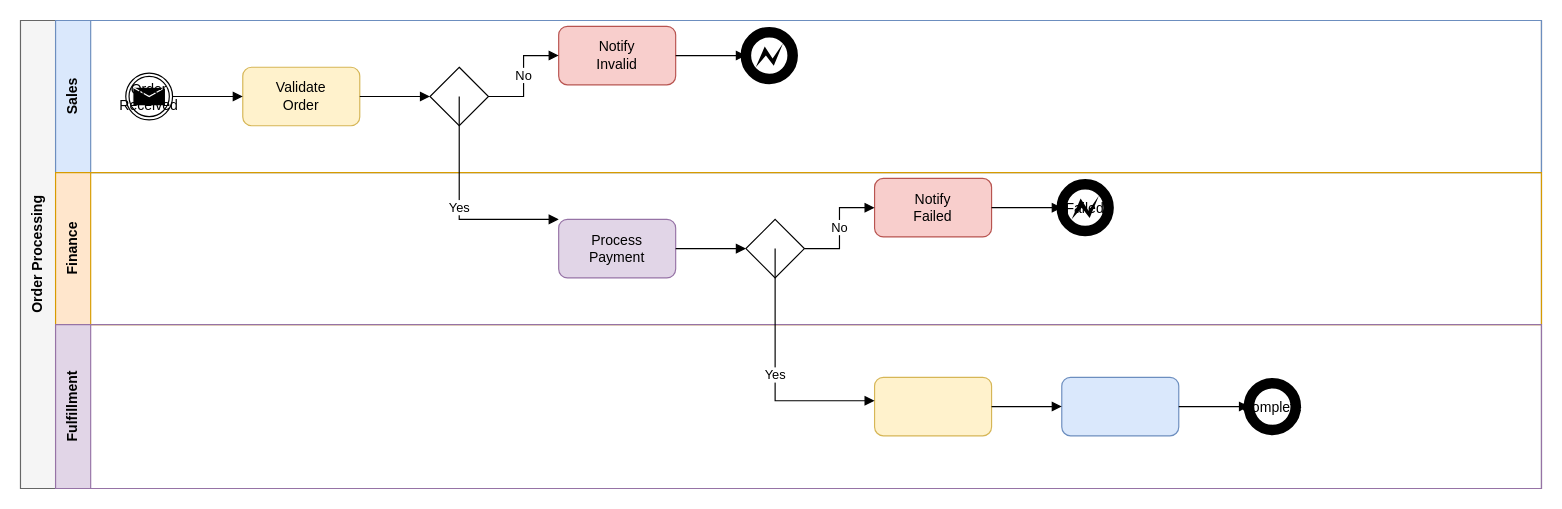
This 1562x509 diagram has some shape labels left out. The centre of each missing label's shape, as x and y in pixels:
"Cancelled" goes at point 769,55.
"Notify Shipped" goes at point 1120,406.
"Payment OK?" goes at point 774,248.
"Ship Order" goes at point 932,406.
"Valid?" goes at point 458,96.
